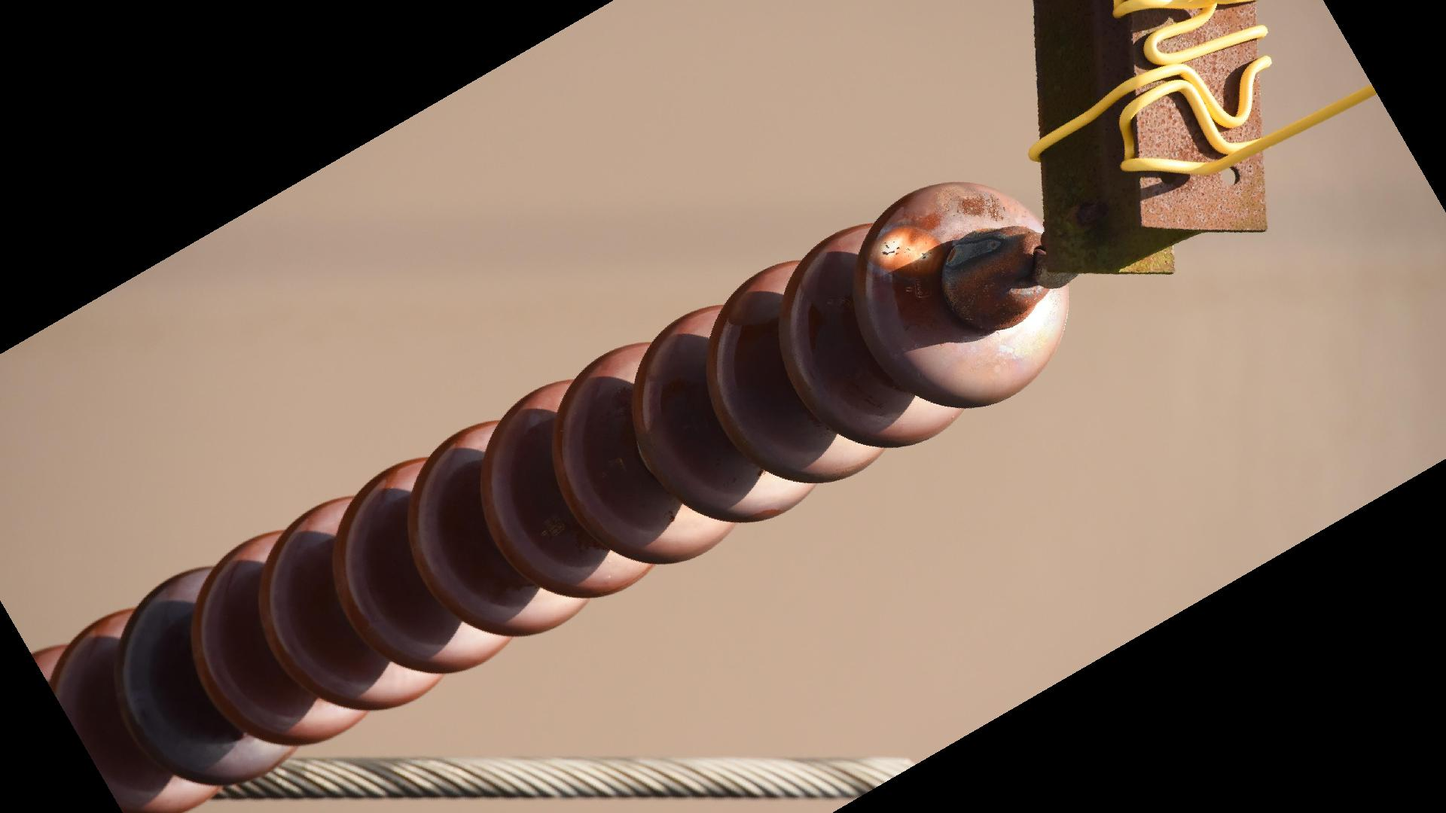insulator: (27, 176, 1073, 813)
insulator_flashover: (864, 221, 948, 285)
